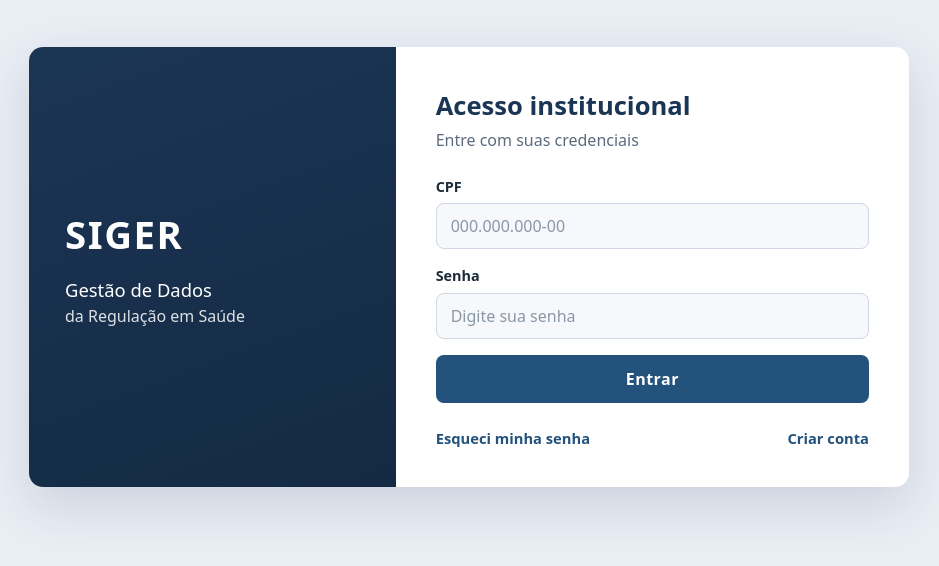
AC-5 mostra a mensagem da API no status 401
In the field labelled "CPF": (652, 226) [436, 203, 869, 249], type "529.982.247-25"
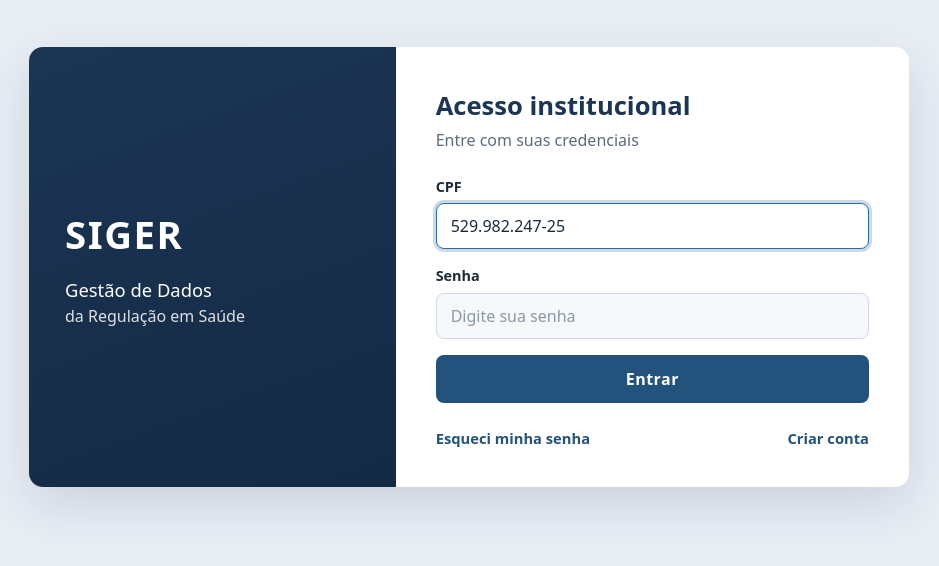
In the password field labelled "Senha": (652, 316) [436, 293, 869, 339], type "errada1"
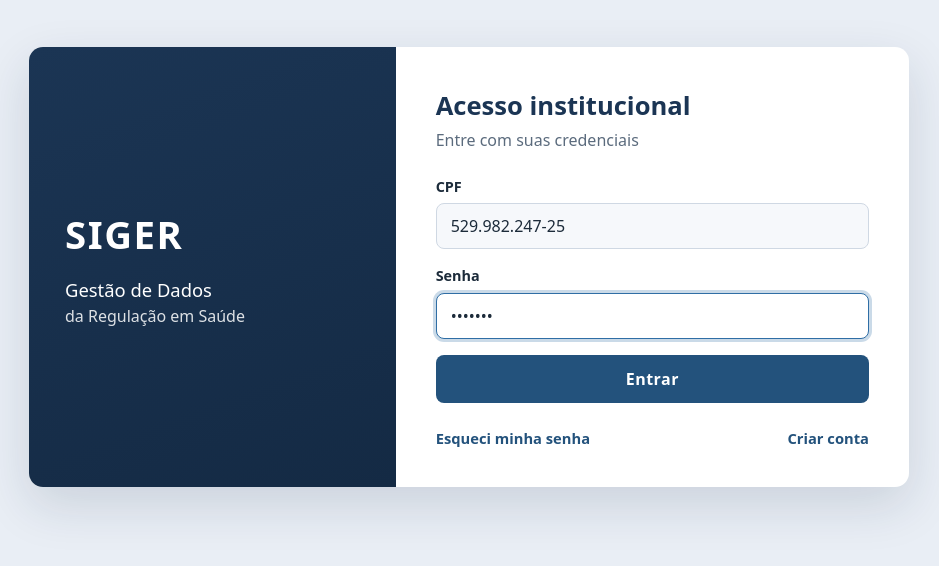
Click the button "Entrar": (652, 379) [436, 355, 869, 403]
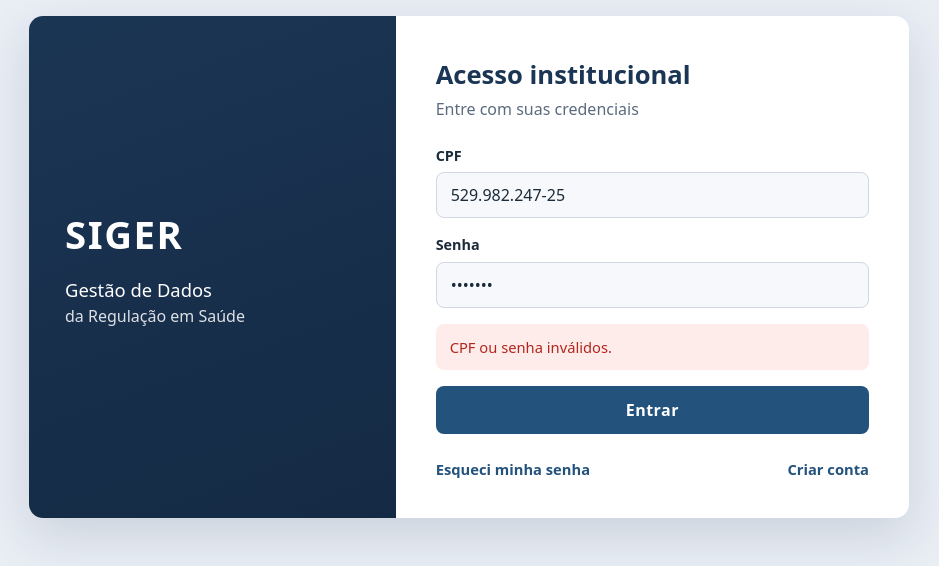
Now the text "CPF ou senha inválidos." is shown, box [436, 324, 869, 370]
